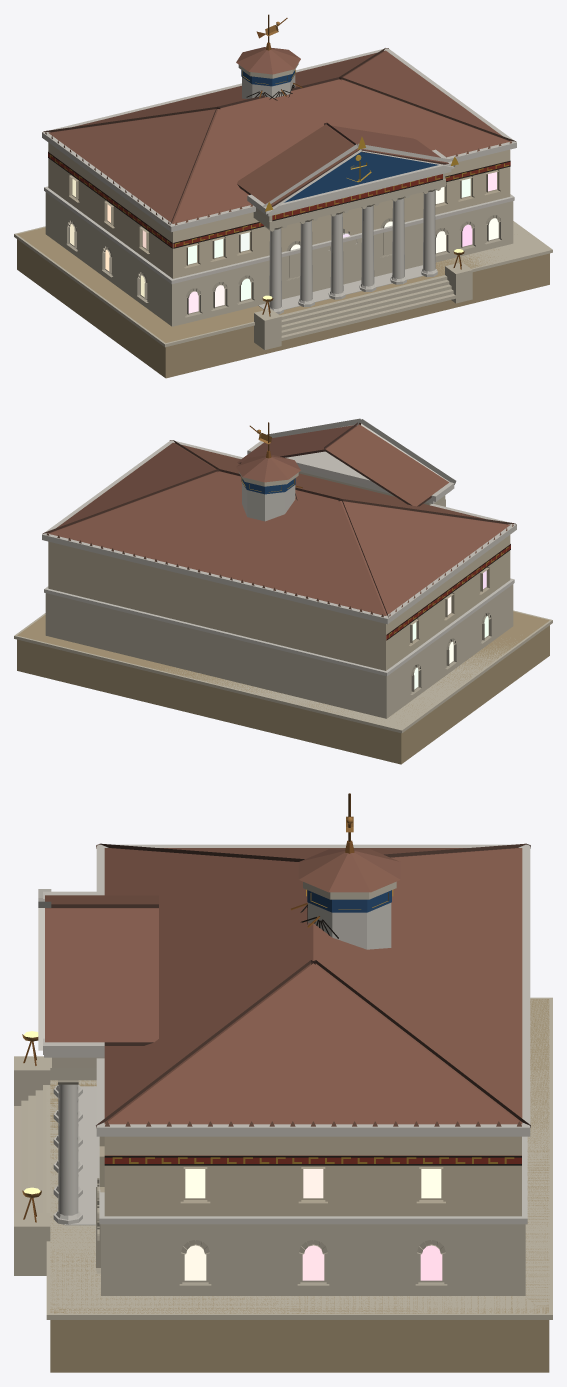
Rendered from customs.glb.
The picture shows the model from 3 angles, top to bottom: view 1: azimuth 30°, elevation 25°; view 2: azimuth 150°, elevation 25°; view 3: azimuth 270°, elevation 25°; orthographic projection. The views are drawn at different scales.
Parts seen in each view (by area): view 1: customs_body, customs_body_windows; view 2: customs_body, customs_body_windows; view 3: customs_body, customs_body_windows.
Boxes of the visible parts, x1=… form: customs_body: x1=14, y1=14, x2=552, y2=378; customs_body_windows: x1=70, y1=172, x2=498, y2=313; customs_body: x1=14, y1=418, x2=552, y2=764; customs_body_windows: x1=412, y1=570, x2=488, y2=689; customs_body: x1=14, y1=793, x2=552, y2=1372; customs_body_windows: x1=184, y1=1169, x2=442, y2=1280.
Size of the model in its own units: 41.4 by 25.64 by 29.7.
